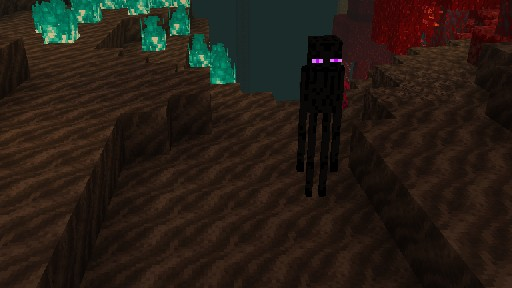enderman: (295, 34, 345, 199)
